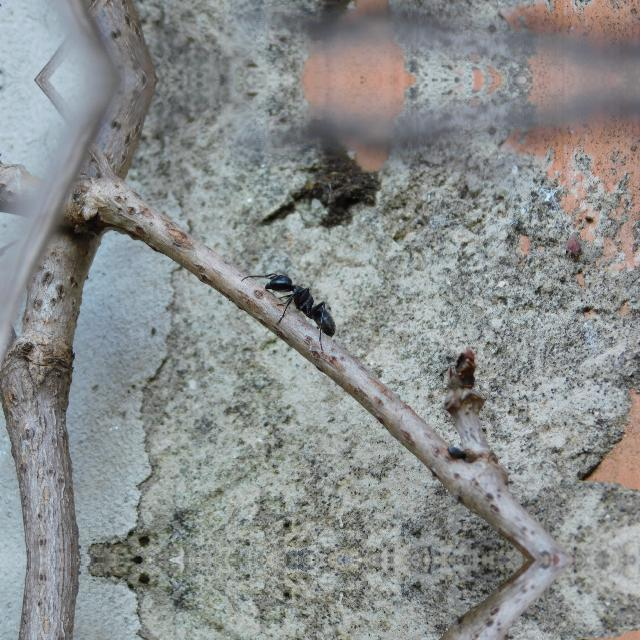Camponotus: (251, 255, 343, 338)
